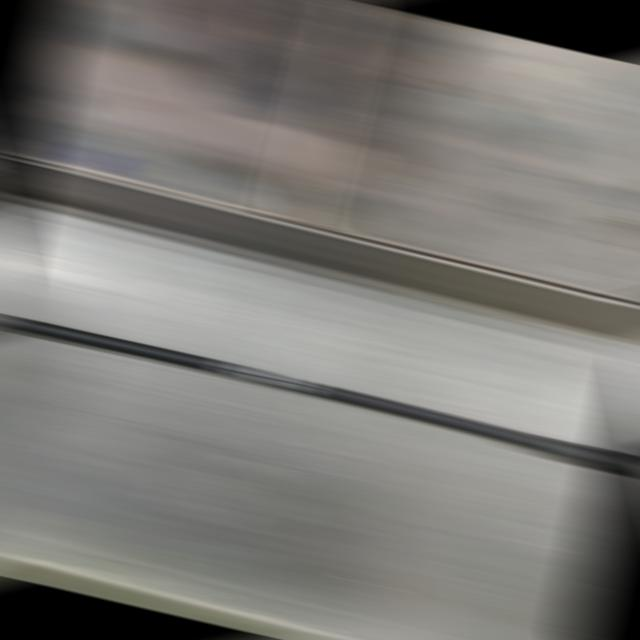white: (230, 363, 303, 392)
